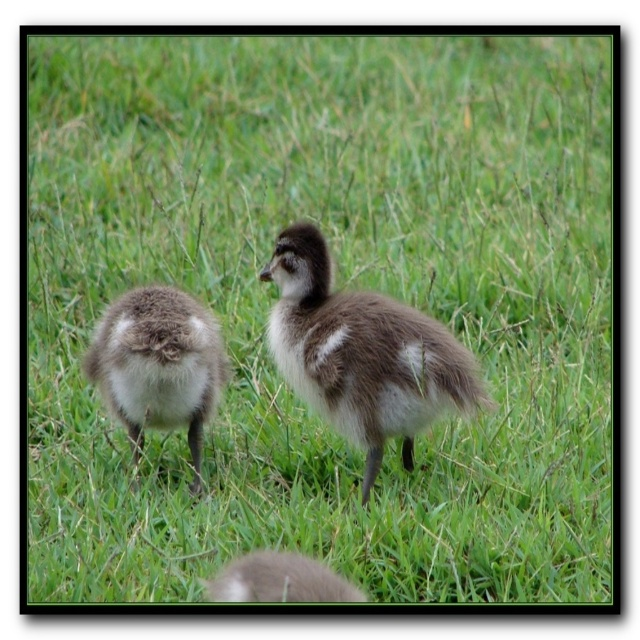Duck: (245, 205, 508, 499), (76, 287, 230, 509), (199, 541, 374, 600)
